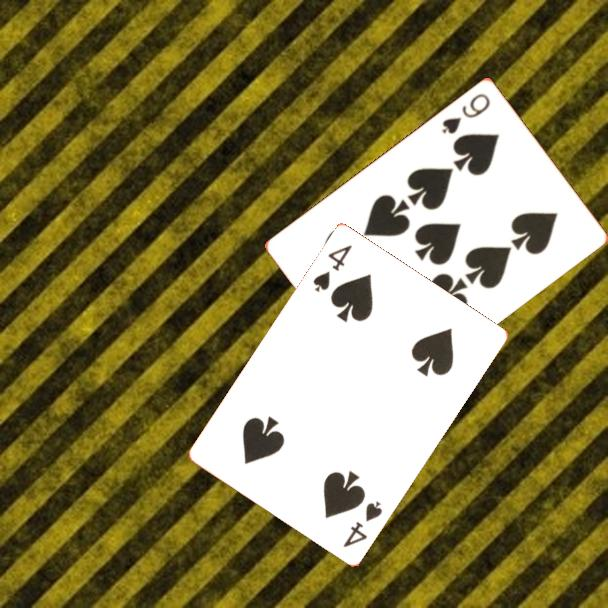s04: (310, 242, 355, 296), (340, 498, 385, 551)
s09: (438, 89, 493, 137)
